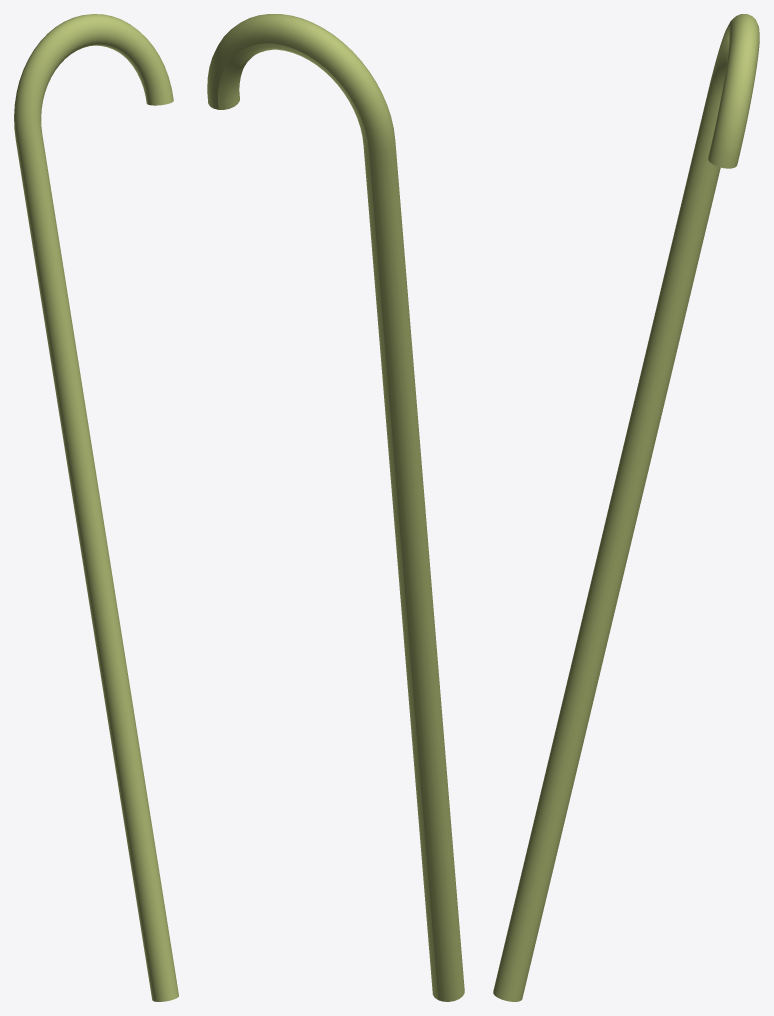
The model's file is Bamboo stick.fbx.
3 renders of one model, left to right at view 1: azimuth 30°, elevation 25°; view 2: azimuth 150°, elevation 25°; view 3: azimuth 270°, elevation 25°, orthographic. The views are drawn at different scales.
Parts seen in each view (by area): view 1: Cylinder001__0; view 2: Cylinder001__0; view 3: Cylinder001__0.
Part boxes in pixels (left/top/right/bottom): Cylinder001__0: left=14, top=14, right=178, bottom=1001; Cylinder001__0: left=207, top=14, right=464, bottom=1001; Cylinder001__0: left=493, top=14, right=759, bottom=1001.
Bounding box in the file's own units: 227 × 1257 × 307.
